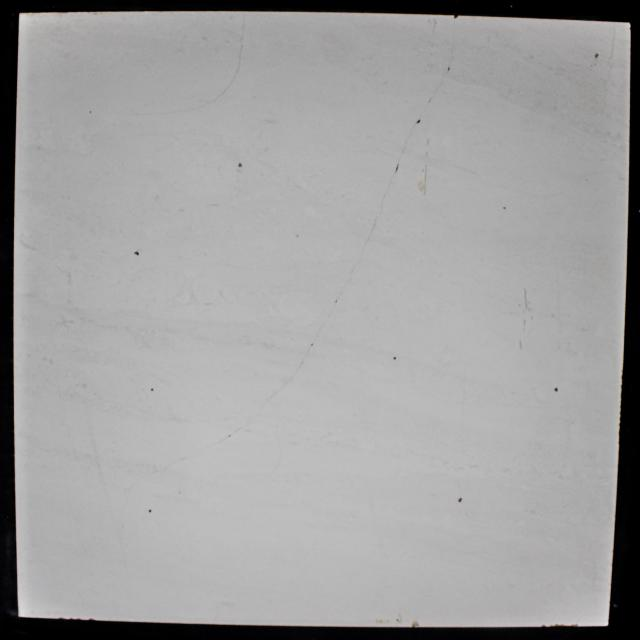edge-chipping: (453, 15, 459, 19)
hole: (133, 249, 141, 258), (237, 161, 244, 168), (457, 496, 463, 504), (594, 52, 600, 59), (553, 387, 559, 392), (416, 119, 421, 124), (148, 508, 152, 514), (392, 356, 397, 360), (150, 387, 154, 392)
line: (270, 371, 297, 400), (397, 127, 414, 163), (369, 202, 383, 238), (428, 74, 444, 104), (352, 239, 368, 268), (337, 270, 353, 298), (182, 100, 211, 113), (297, 346, 311, 370), (233, 48, 243, 79), (215, 83, 232, 101), (383, 174, 395, 199), (313, 322, 326, 342), (239, 17, 246, 46), (152, 110, 179, 116), (523, 288, 529, 310)
